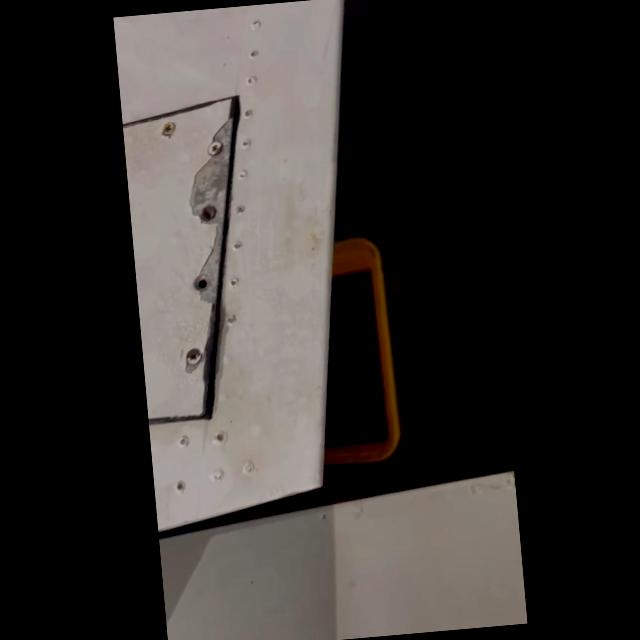Missing Fastener: (186, 266, 217, 294)
